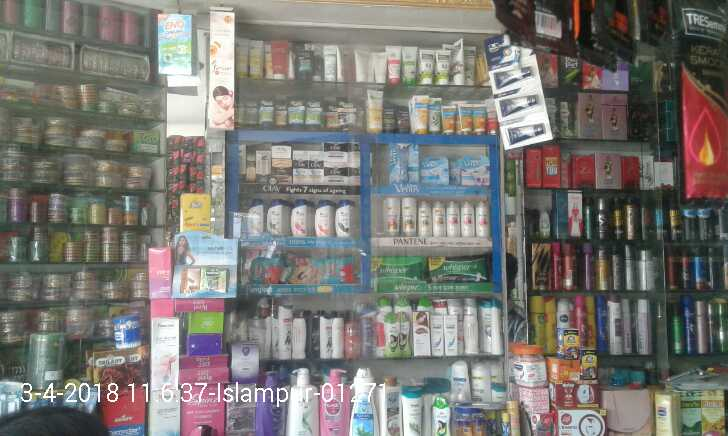venus: (389, 143, 419, 185), (422, 156, 449, 185), (463, 155, 489, 185), (450, 158, 463, 185)
